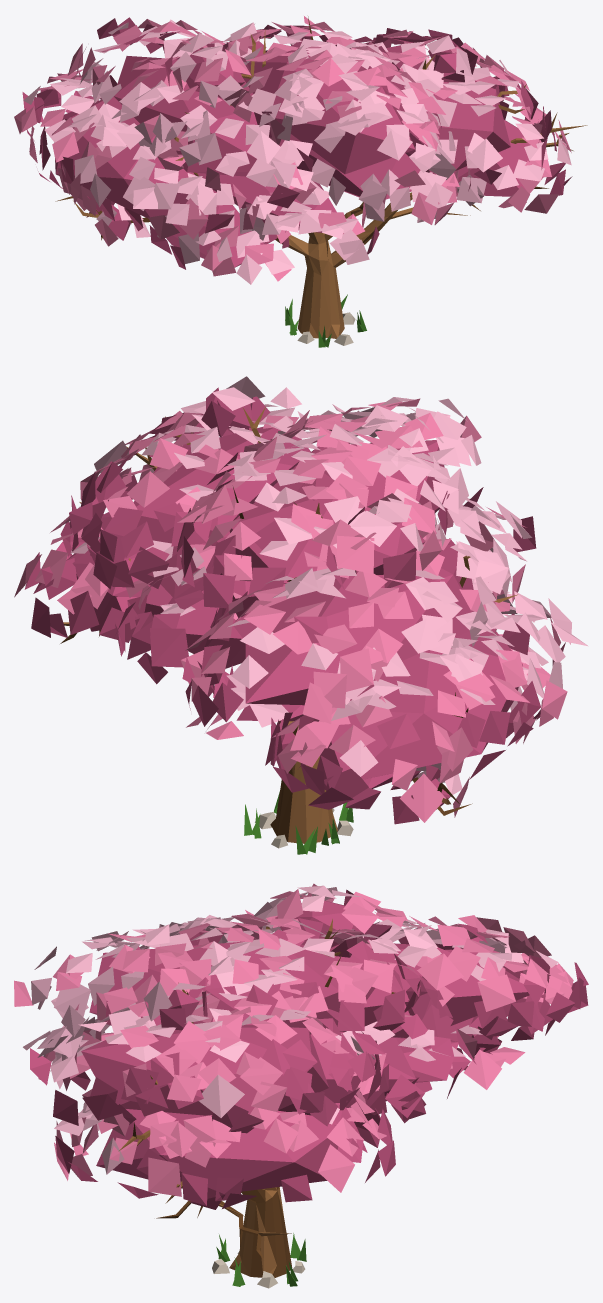
File: cherry_var_bloom.glb
3 views of the same model, one above another, from view 1: azimuth 30°, elevation 25°; view 2: azimuth 150°, elevation 25°; view 3: azimuth 270°, elevation 25° (orthographic). The views are drawn at different scales.
Visible parts, largest first — view 1: cherry_var_bloom; view 2: cherry_var_bloom; view 3: cherry_var_bloom.
Boxes of the visible parts, x1=… form: cherry_var_bloom: x1=14, y1=16, x2=587, y2=347; cherry_var_bloom: x1=14, y1=376, x2=588, y2=854; cherry_var_bloom: x1=14, y1=883, x2=588, y2=1288.
Bounding box in the file's own units: 9.73 × 6.34 × 9.74.
